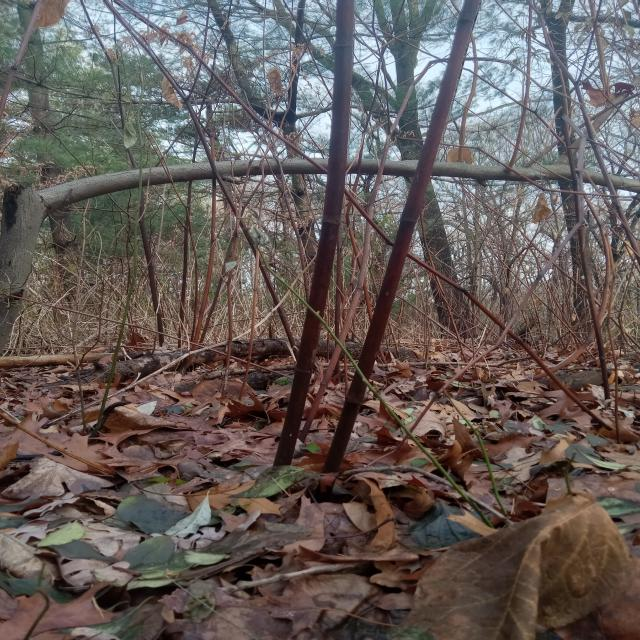knotweed-stems: (318, 1, 484, 475), (270, 1, 357, 470)
